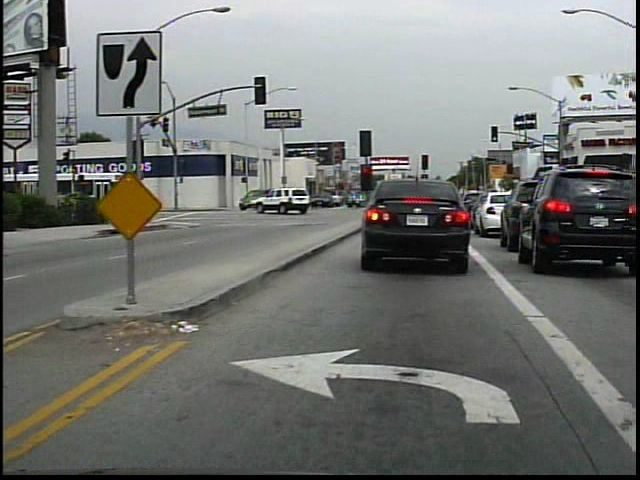person: (99, 189, 120, 225)
